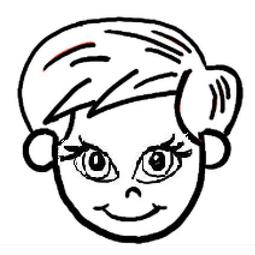ear: (22, 130, 62, 177), (201, 127, 232, 173)
eye: (126, 127, 193, 186), (66, 132, 120, 182)
mouth: (88, 200, 172, 222)
nose: (116, 183, 145, 203)
